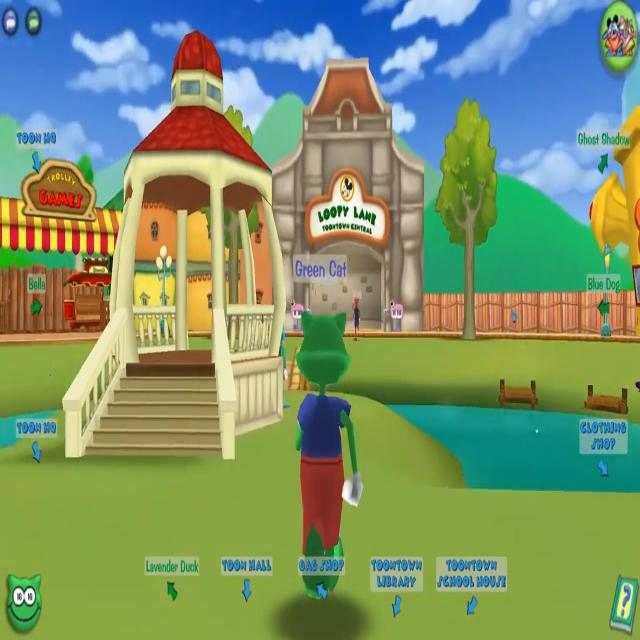npc: (275, 322, 293, 410)
